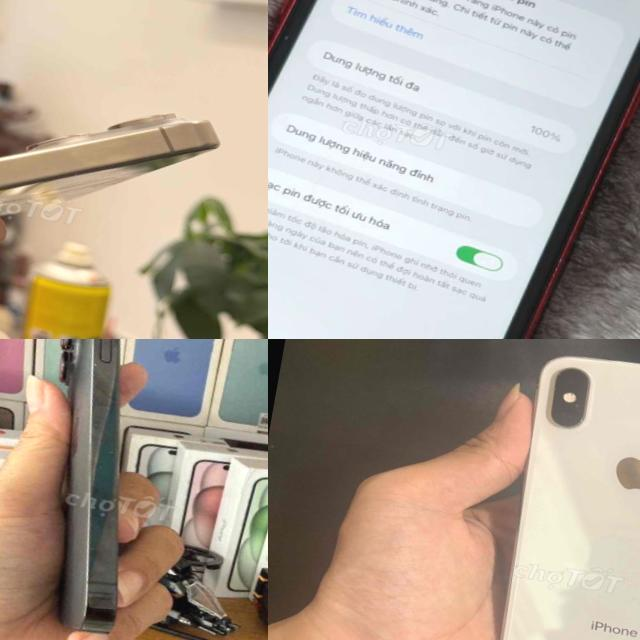gen_11: (268, 0, 640, 339)
gen_14: (2, 339, 197, 640)
gen_15: (0, 41, 220, 303)
gen_x_xs: (462, 339, 640, 640)
